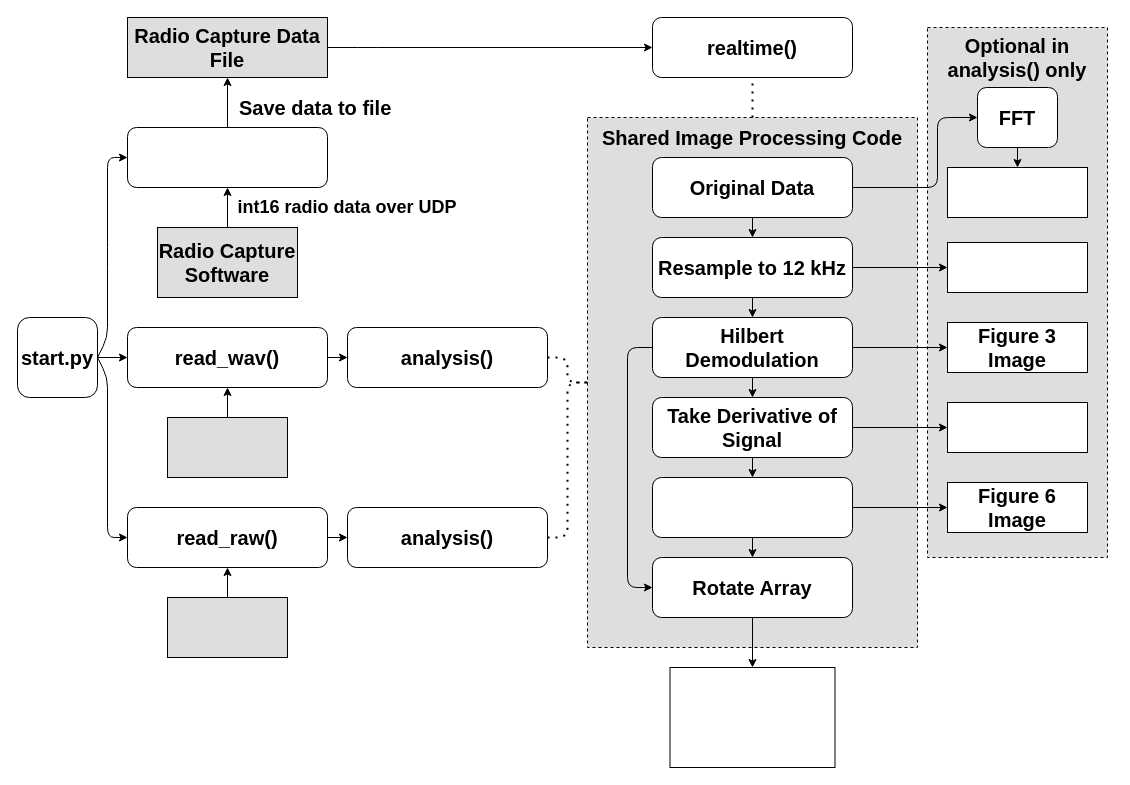
Image size: 1130x785. Some labels were removed from this diagram. Each missing label, with the box of its shape:
.dat file: (166, 596, 288, 658)
.wav file: (166, 416, 288, 478)
Figure 1 Decoded Satellite Image: (669, 666, 835, 768)
Figure 2 Image: (946, 242, 1088, 292)
Figure 4 Image: (946, 166, 1088, 218)
Figure 5 Image: (946, 402, 1088, 452)
Peak Detection: (652, 476, 852, 538)
receive_data_UDP(): (126, 126, 328, 188)
